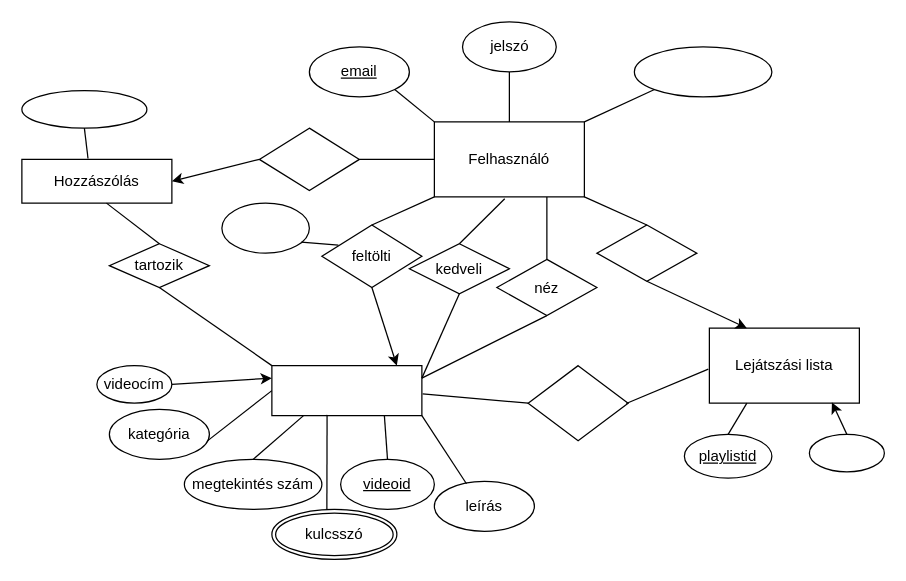
Some shapes in this 906 by 581 pixel diagram are drawn without their labels. The shapes that lost their labels are listed below. From the top down, each one's centre as x and y in pixels, then its label:
At point (702, 71): "felhasználónév".
At point (84, 108): "commentid".
At point (308, 159): "megír".
At point (265, 227): "feltöltés ideje".
At point (646, 252): "létrehoz".
At point (346, 390): "Videó".
At point (577, 402): "hozzáad".
At point (846, 452): "playlistnév".
